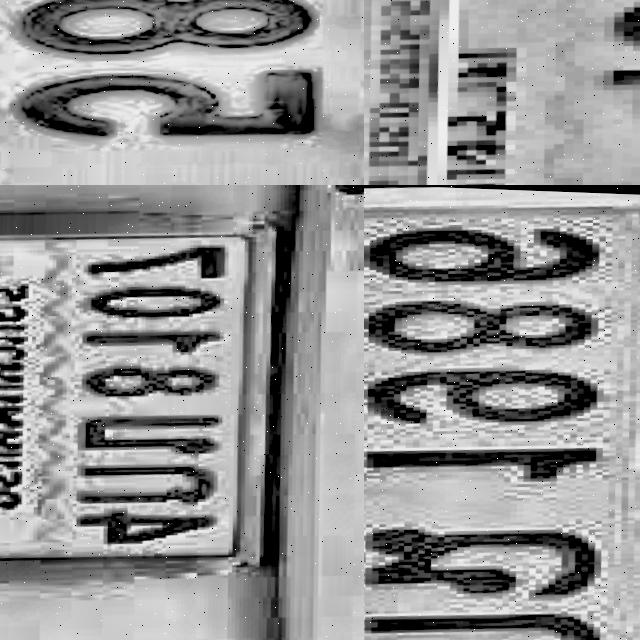license-plate: (0, 185, 307, 603), (364, 185, 640, 640), (0, 0, 364, 185), (364, 0, 640, 185)
